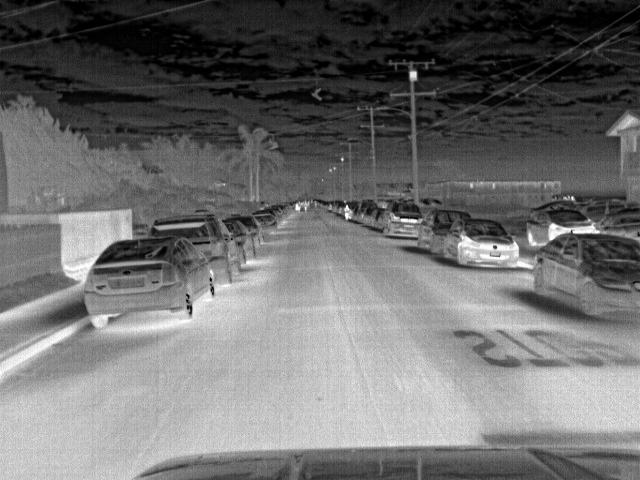car: (81, 236, 219, 333), (529, 232, 640, 322), (146, 213, 241, 289), (438, 218, 524, 268), (524, 205, 596, 245), (407, 208, 472, 250), (382, 199, 422, 235), (226, 220, 253, 264), (603, 208, 640, 238), (239, 214, 262, 251), (248, 209, 279, 230), (355, 199, 373, 224), (372, 209, 387, 229), (362, 207, 375, 223)
person: (342, 204, 355, 222)
